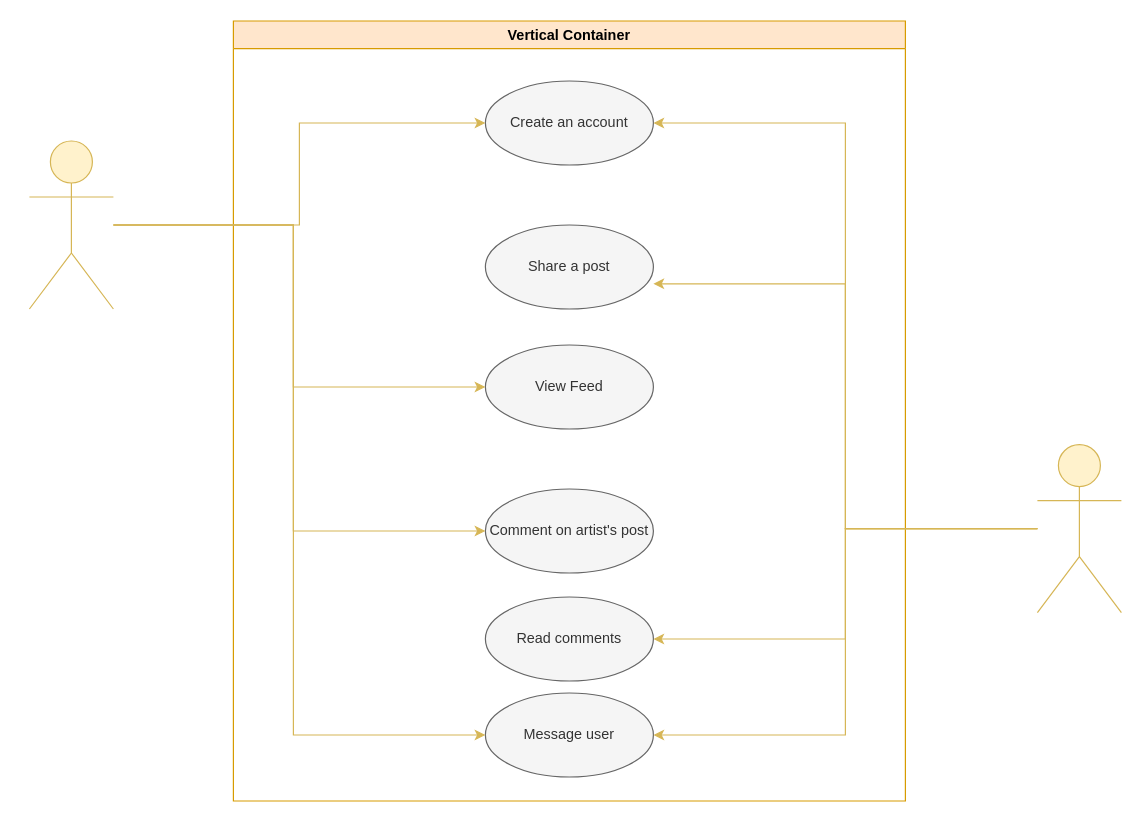
Image size: 1142x822. Some labels were removed from this diagram. The centre of each missing label's shape, as x and y in pixels:
Artist: point (1078, 528)
Indie Developer: point (70, 224)
